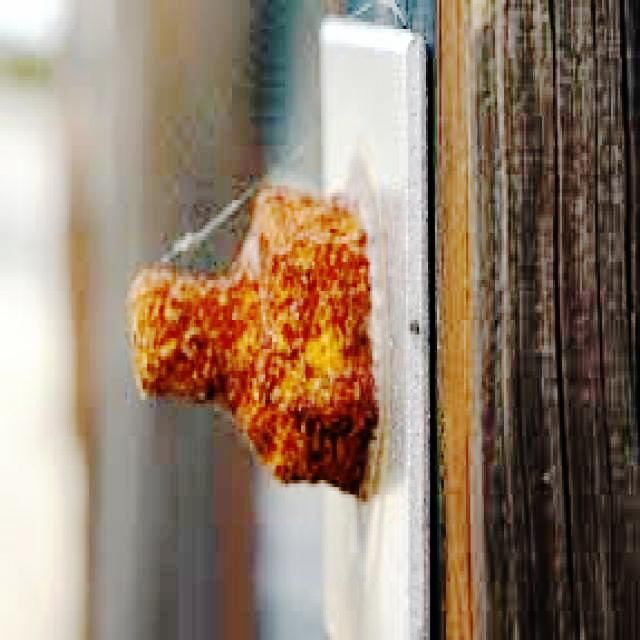Corrosion: (127, 183, 378, 501)
